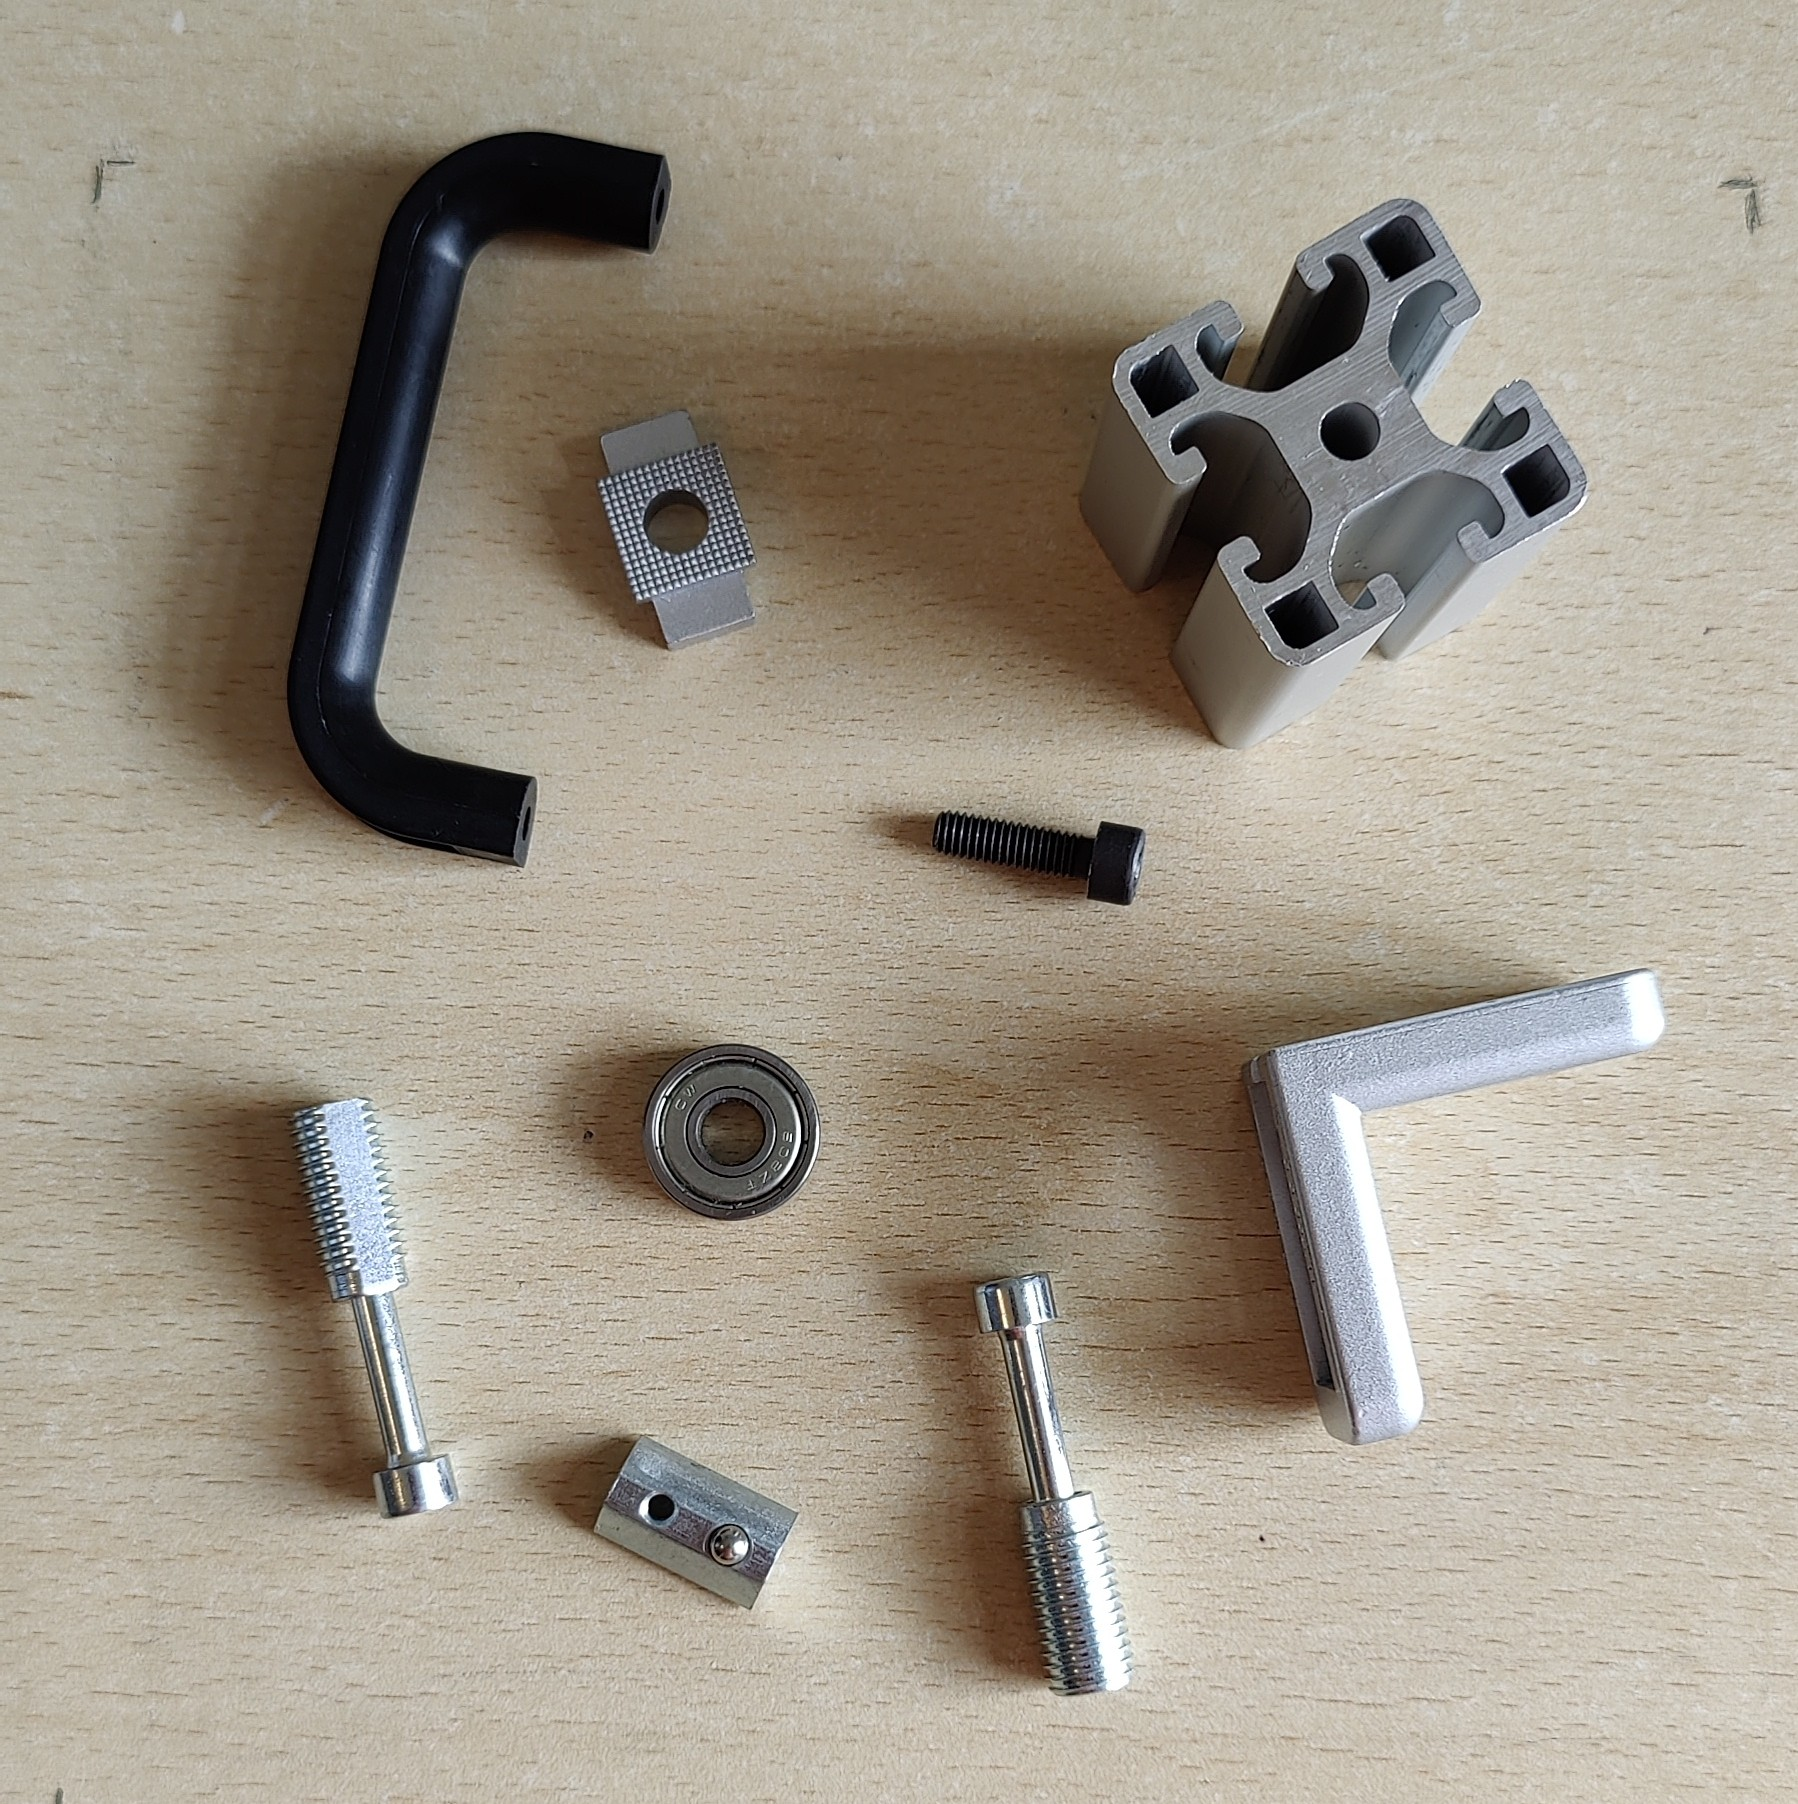Aluminium Extension: (1074, 196, 1591, 752)
Ball Bearing: (639, 1042, 823, 1223)
Multiwinkel: (1238, 968, 1666, 1448)
Pull Handle: (283, 128, 673, 871)
Shoulder Socket Head Cap Screw: (288, 1091, 463, 1521), (971, 1267, 1139, 1700)
Socket Head Cap Screw: (929, 803, 1148, 909)
T Nut Square: (594, 403, 761, 653)
T Spring Nut: (588, 1430, 802, 1611)
